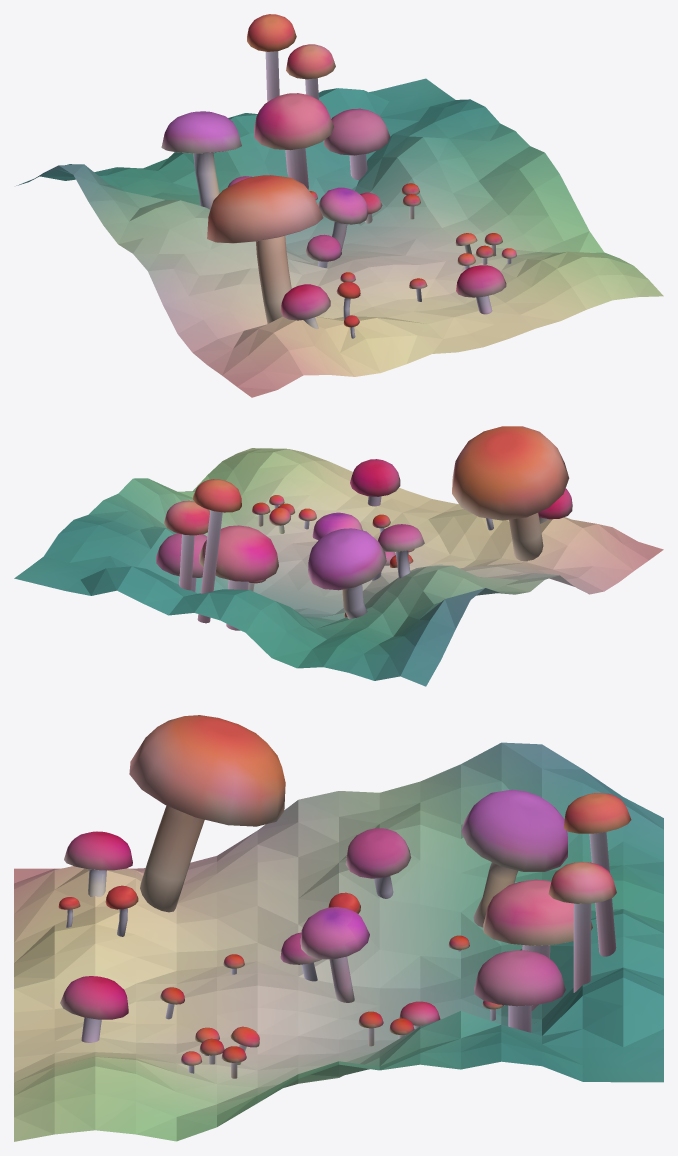
File: vc_diorama_005.fbx
The picture shows the model from 3 angles, top to bottom: view 1: azimuth 30°, elevation 25°; view 2: azimuth 150°, elevation 25°; view 3: azimuth 270°, elevation 25°; orthographic projection. The views are drawn at different scales.
Parts seen in each view (by area): view 1: mushroom.004; view 2: mushroom.004; view 3: mushroom.004.
Part boxes in pixels (box(x1,y1,x2,y2)): mushroom.004: box(16, 14, 663, 397); mushroom.004: box(14, 426, 663, 686); mushroom.004: box(14, 715, 663, 1141).
Bounding box in the file's own units: 100 × 40.22 × 100.
